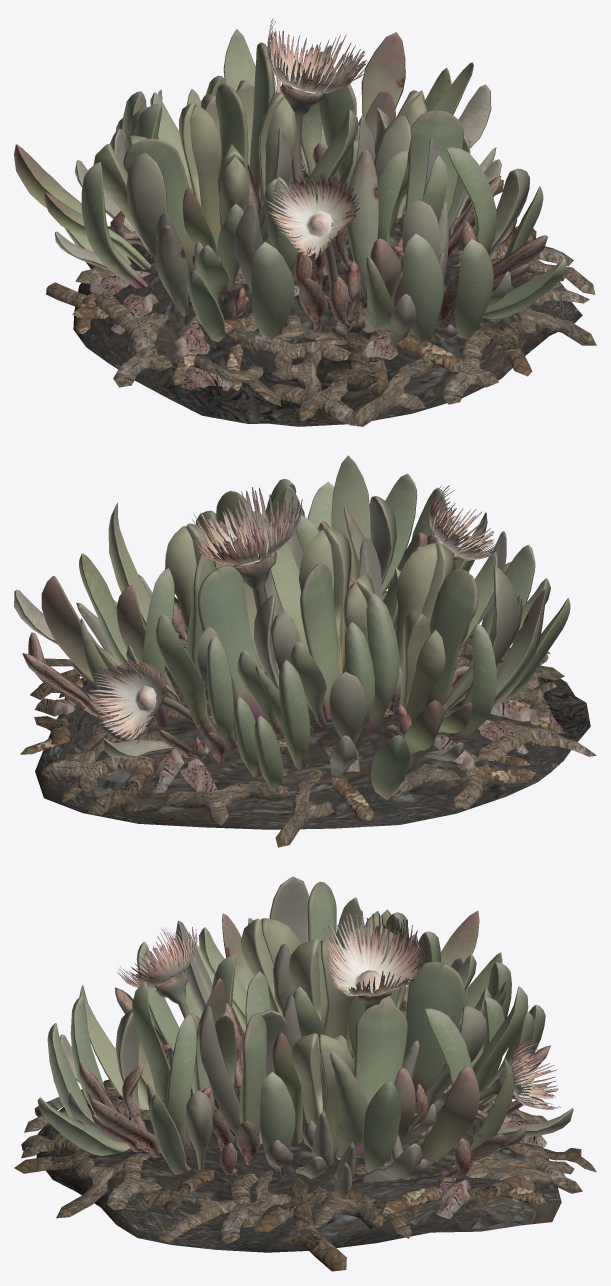
File: cheiridopsis_succulent_02.glb
The picture shows the model from 3 angles, top to bottom: view 1: azimuth 30°, elevation 25°; view 2: azimuth 150°, elevation 25°; view 3: azimuth 270°, elevation 25°; orthographic projection. The views are drawn at different scales.
Parts seen in each view (by area): view 1: cheiridopsis_succulent, cheiridopsis_succulent_flower; view 2: cheiridopsis_succulent, cheiridopsis_succulent_flower; view 3: cheiridopsis_succulent, cheiridopsis_succulent_flower.
Part boxes in pixels (bbox=[...]): cheiridopsis_succulent: bbox=[14, 29, 596, 426]; cheiridopsis_succulent_flower: bbox=[254, 18, 370, 259]; cheiridopsis_succulent: bbox=[14, 455, 596, 847]; cheiridopsis_succulent_flower: bbox=[88, 485, 495, 743]; cheiridopsis_succulent: bbox=[14, 876, 596, 1271]; cheiridopsis_succulent_flower: bbox=[117, 910, 561, 1109].
Bounding box in the file's own units: 0.5106 × 0.2663 × 0.5487.
Materials: 2 (2 with a texture image).
